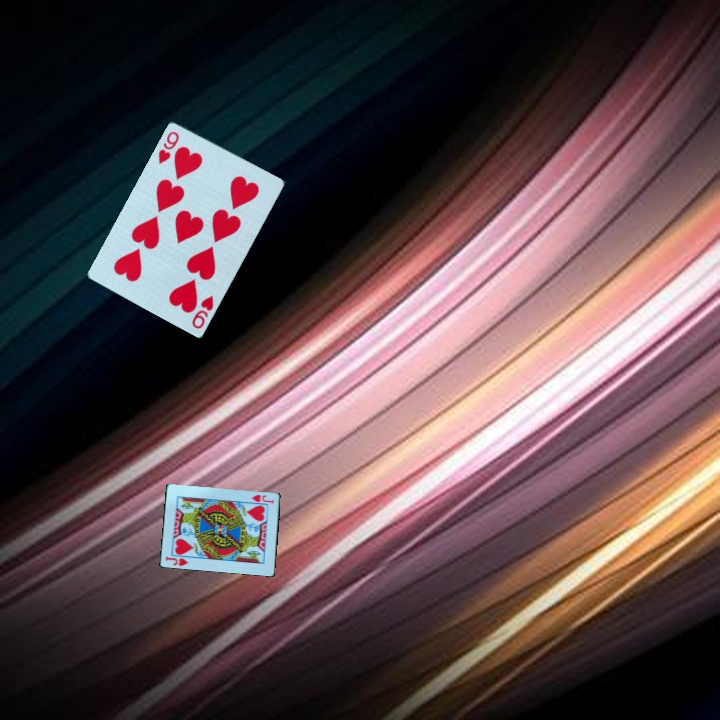9h: (188, 291, 216, 331), (155, 127, 182, 167)
Jh: (162, 553, 191, 569), (248, 491, 277, 506)
